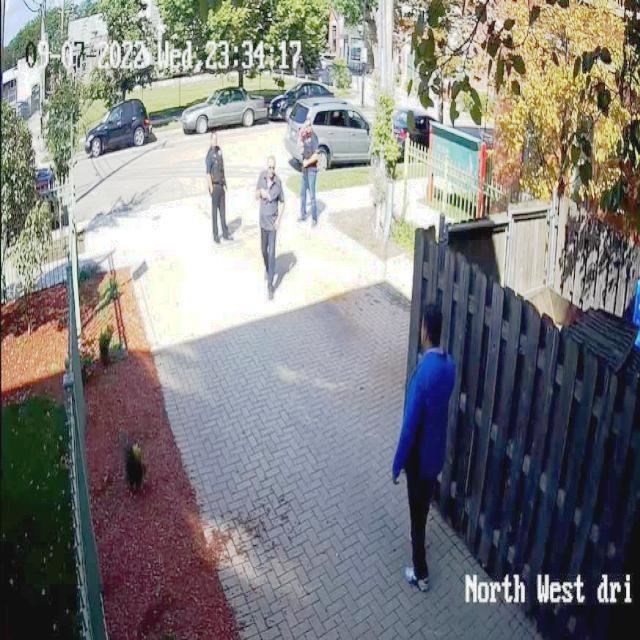Gun: (256, 190, 284, 210)
